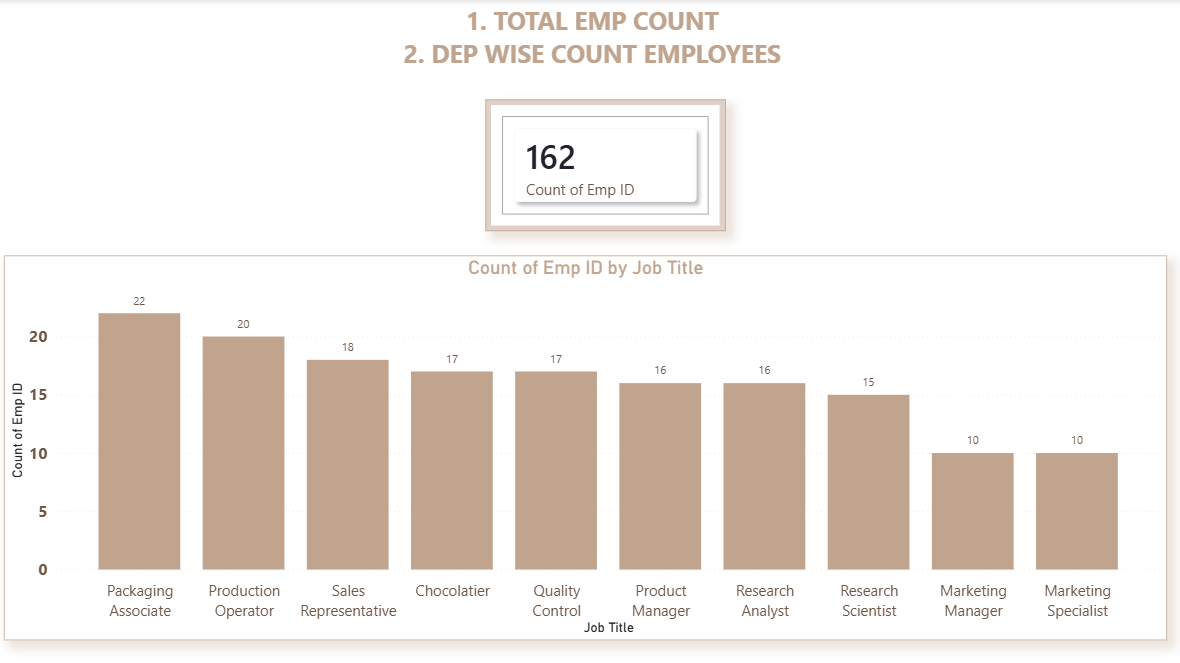

The page's visual inventory and layout, read from the dashboard file:
{"tool":"powerbi","page":{"name":"JOBTITLE ORDER","canvas":[1280,720],"ordinal":0},"visuals":[{"type":"textbox","box":[10,0,1270,95],"z":0},{"type":"cardVisual","fields":{"Data":["Count(data.Emp ID)"]},"box":[529.8,108.8,259.6,142.1],"z":1000},{"type":"clusteredColumnChart","fields":{"Category":["data.Job Title"],"Y":["CountNonNull(data.Emp ID)"]},"box":[10,277.5,1255,415],"z":2000}]}

Visuals, with their boxes in screenshot pixels (x1, y1, x2, y2), scaled from the page's 1280x720 canvas onto the 1180x663 screenshot:
textbox: 9,0,1179,87
cardVisual - Count(data.Emp ID): 488,100,728,231
clusteredColumnChart - data.Job Title x CountNonNull(data.Emp ID): 9,256,1166,638
